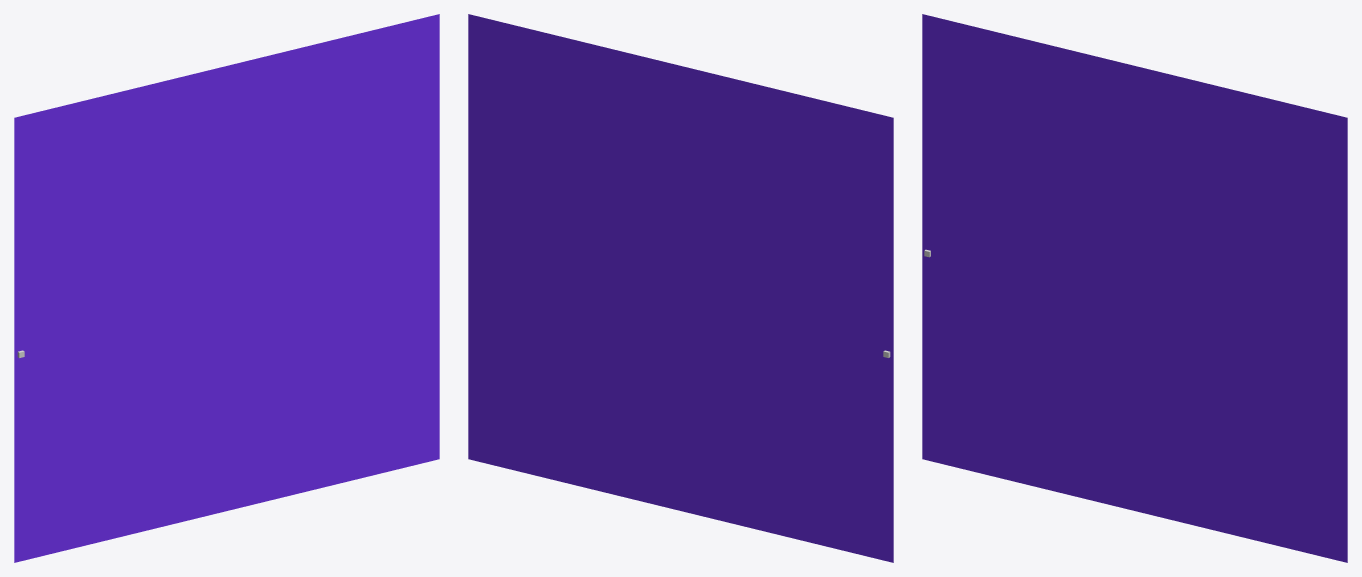
The model's file is background_home.glb.
3 views of the same model, side by side, from view 1: azimuth 30°, elevation 25°; view 2: azimuth 150°, elevation 25°; view 3: azimuth 330°, elevation 25° (orthographic).
Visible parts, largest first — view 1: background; view 2: background; view 3: background.
Boxes of the visible parts, x1,y1,x2,y2 form: background: (14, 14, 439, 562); background: (468, 14, 893, 562); background: (922, 14, 1347, 562).
Size of the model in its own units: 1.35 by 1.35 by 0.0166.
